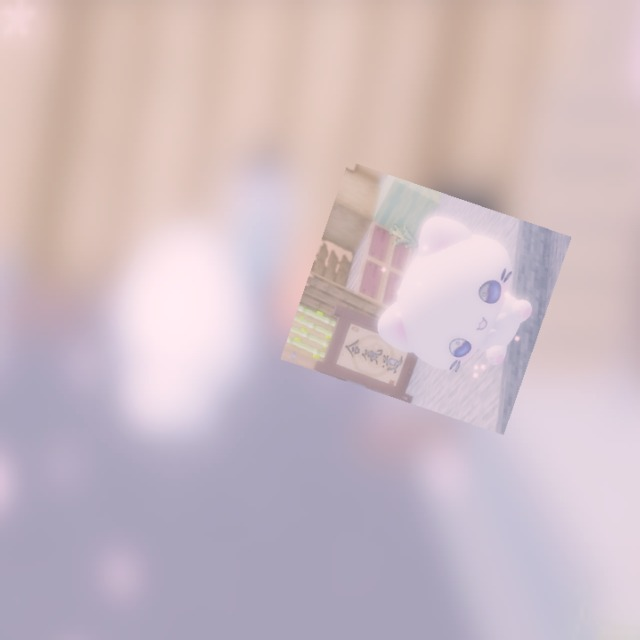urso_branco: (280, 160, 572, 436)
